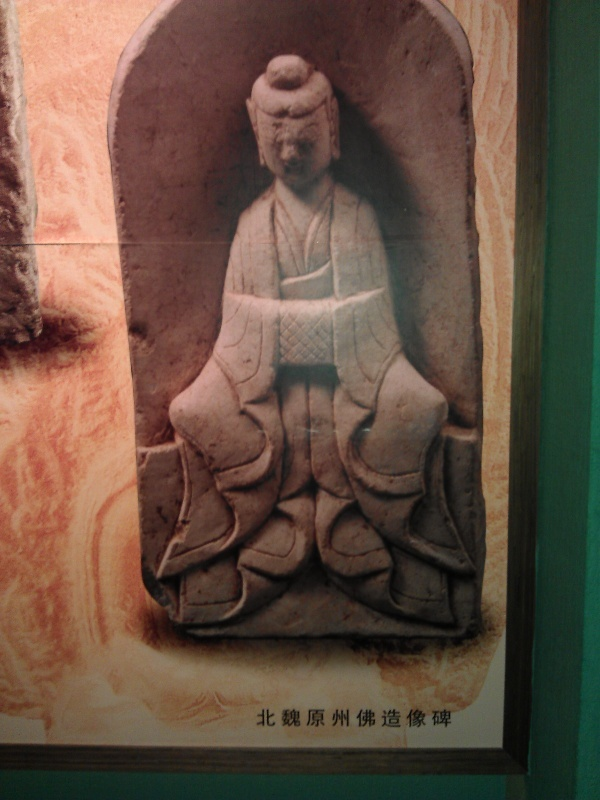text: (257, 708, 272, 728), (273, 708, 288, 728), (289, 708, 304, 728), (305, 708, 320, 728), (321, 708, 336, 728), (337, 708, 352, 728), (353, 708, 368, 728), (369, 708, 384, 728), (385, 708, 400, 728), (401, 708, 416, 728), (417, 708, 432, 728), (433, 708, 448, 728), (449, 708, 452, 728)
